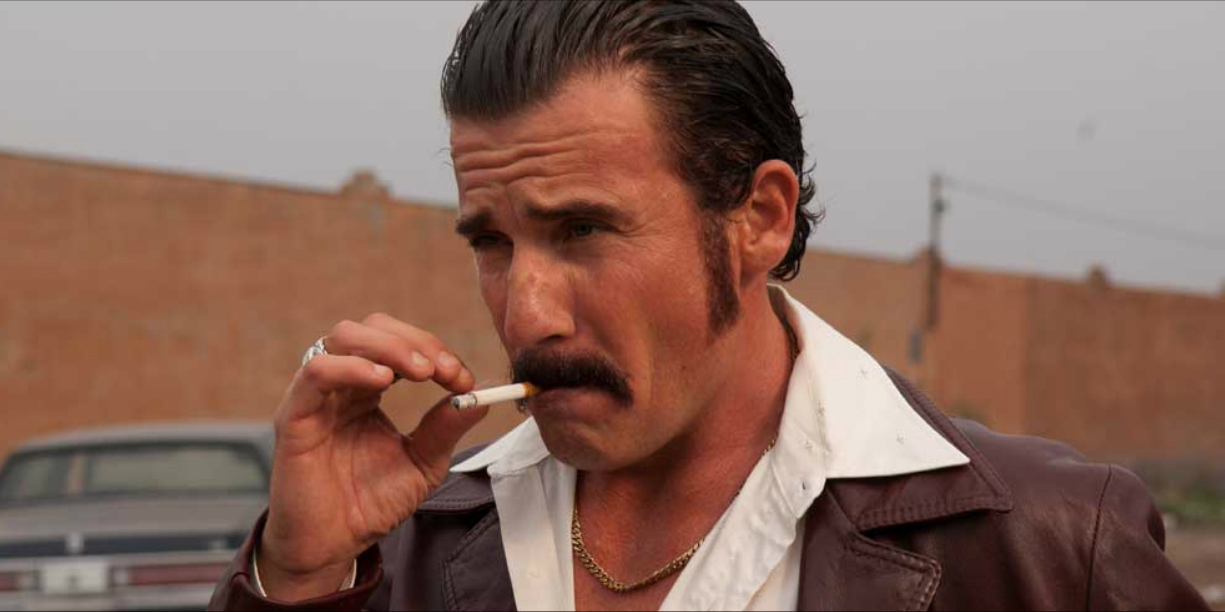cigarette: (440, 371, 550, 423)
